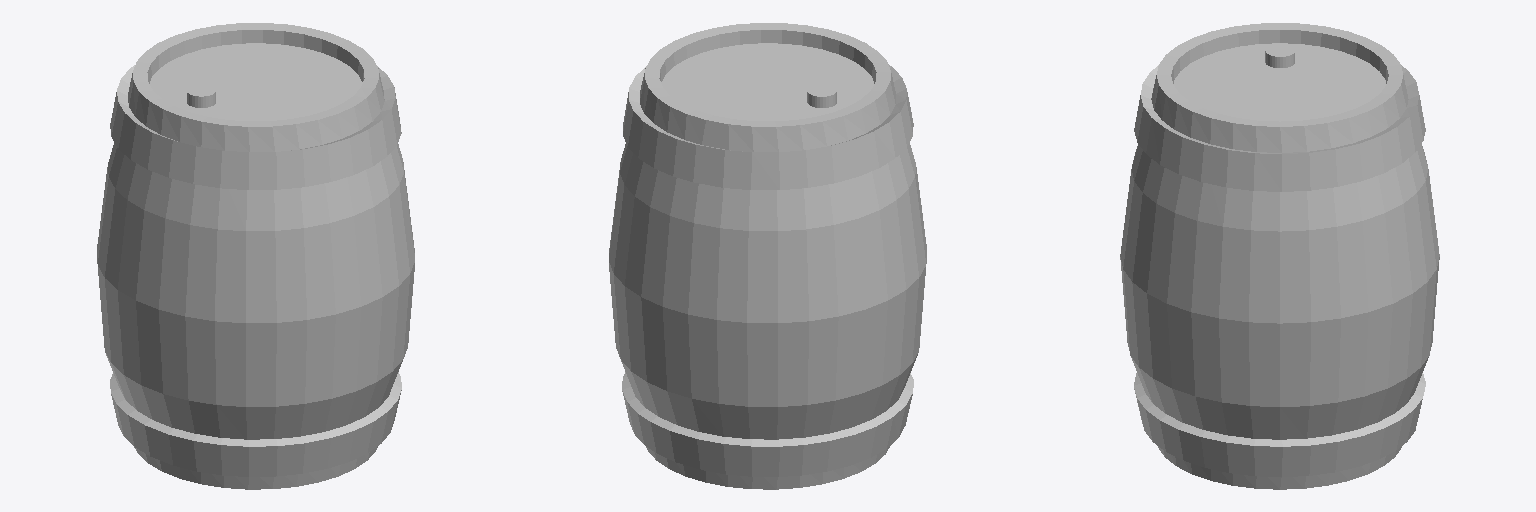
The model's file is barrel.obj.
3 renders of one model, left to right at view 1: azimuth 30°, elevation 25°; view 2: azimuth 150°, elevation 25°; view 3: azimuth 270°, elevation 25°, orthographic.
Parts seen in each view (by area): view 1: Цилиндр, Цилиндр.001; view 2: Цилиндр, Цилиндр.001; view 3: Цилиндр, Цилиндр.001.
Part boxes in pixels (left/top/right/bottom): Цилиндр: left=97, top=23, right=414, bottom=489; Цилиндр.001: left=187, top=84, right=215, bottom=107; Цилиндр: left=609, top=23, right=926, bottom=489; Цилиндр.001: left=807, top=84, right=836, bottom=107; Цилиндр: left=1120, top=23, right=1439, bottom=489; Цилиндр.001: left=1265, top=44, right=1294, bottom=67.
Bounding box in the file's own units: 2.66 × 3.33 × 2.66.